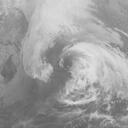cyclone: (39, 40, 108, 103)
